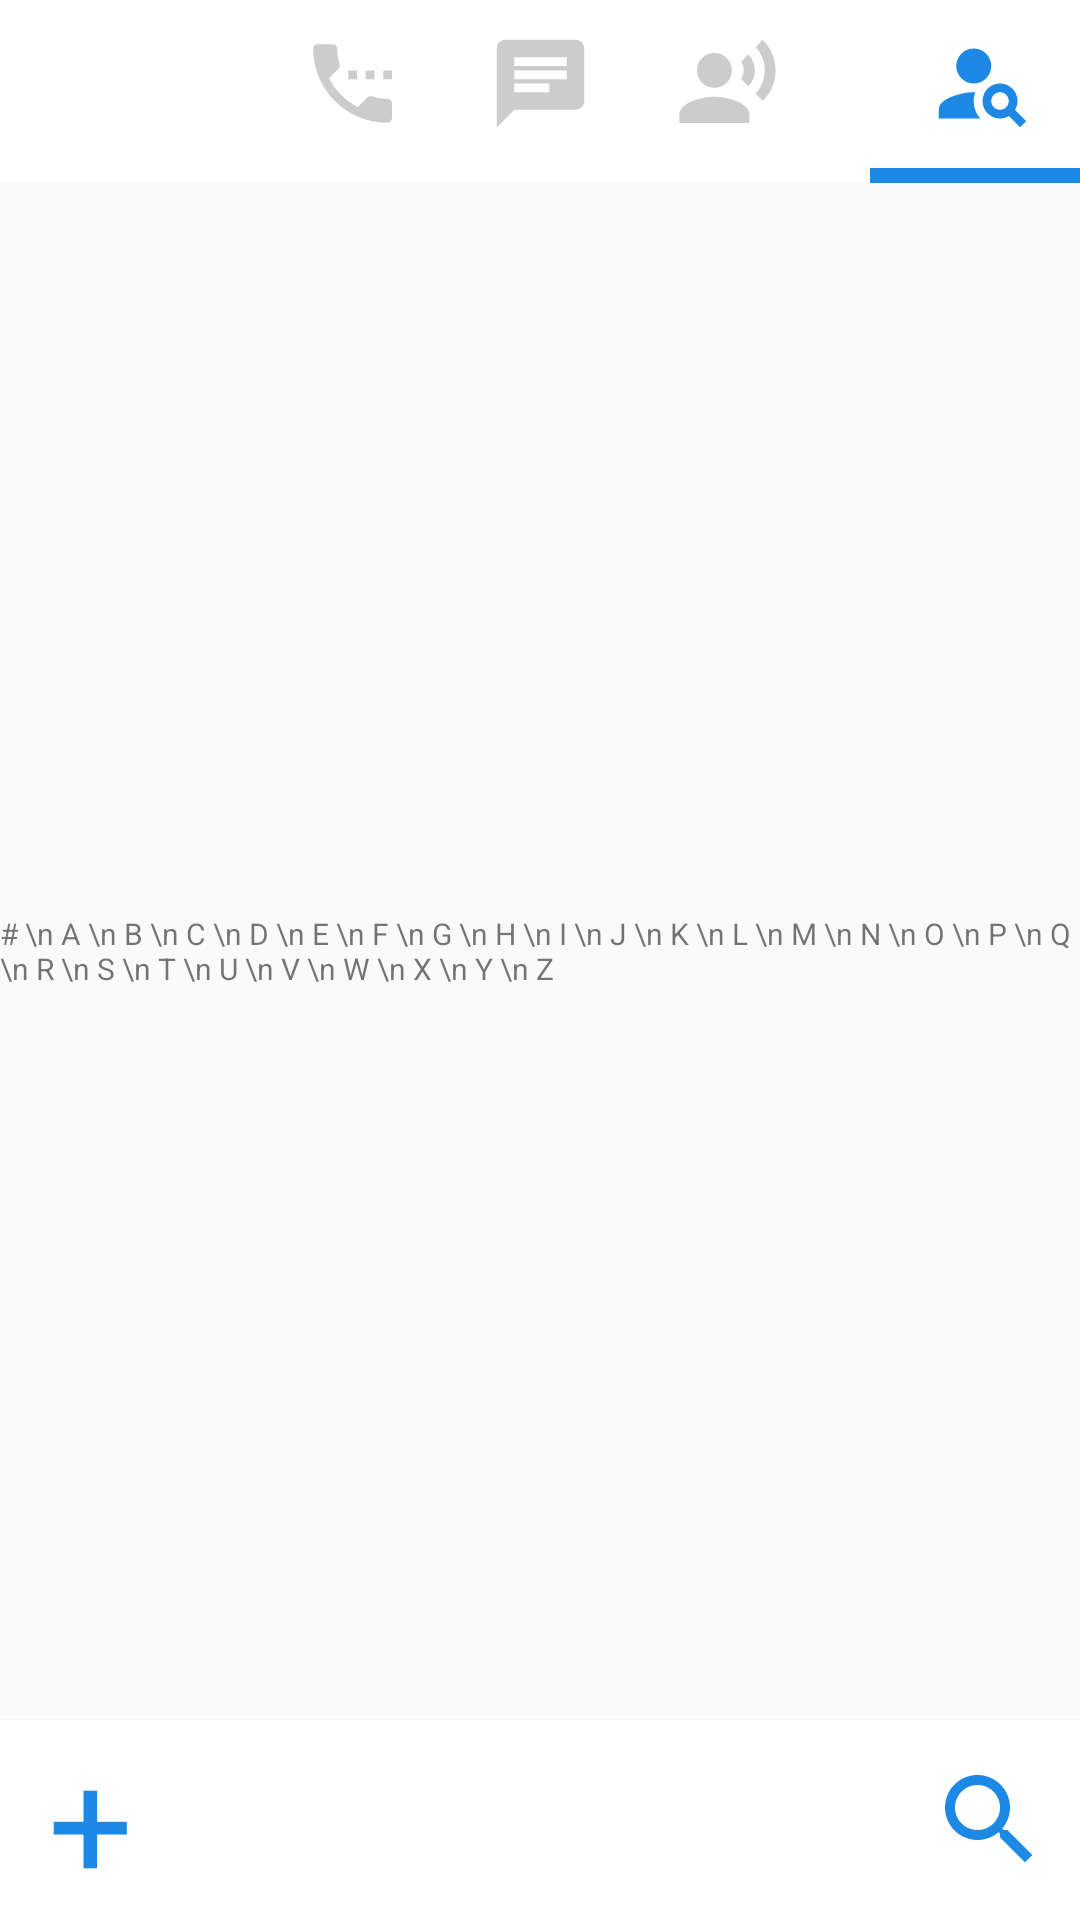

Icon click points for this 1080*1920 phone screenshot, format (x=x, y=y):
chat: (x=540, y=83)
person: (x=982, y=87)
phone: (x=352, y=83)
search: (x=988, y=1818)
voice: (x=727, y=81)
